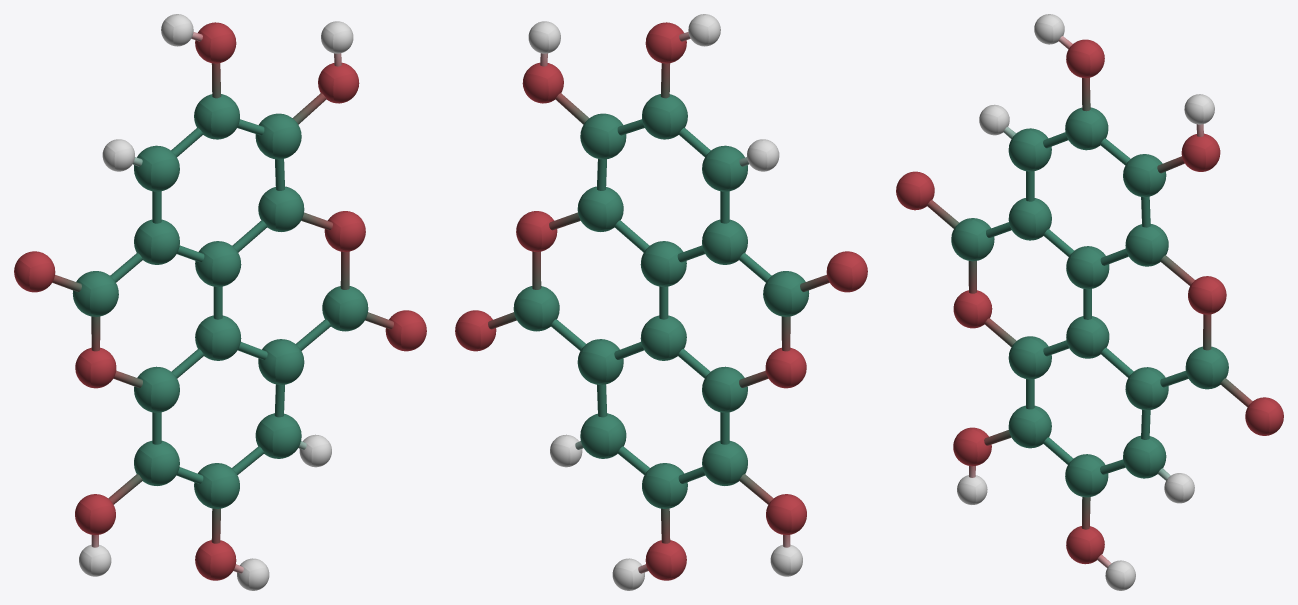
File: Ellagic Acid.fbx
The picture shows the model from 3 angles, left to right: view 1: azimuth 30°, elevation 25°; view 2: azimuth 150°, elevation 25°; view 3: azimuth 330°, elevation 25°; orthographic projection. The views are drawn at different scales.
Visible parts, largest first — view 1: curMeshHyperballExportedMesh; view 2: curMeshHyperballExportedMesh; view 3: curMeshHyperballExportedMesh.
Boxes of the visible parts, box(x1,y1,x2,y2) form: curMeshHyperballExportedMesh: box(14, 14, 426, 590); curMeshHyperballExportedMesh: box(455, 14, 867, 590); curMeshHyperballExportedMesh: box(896, 14, 1283, 590).
Size of the model in its own units: 5.77 by 8.02 by 0.5667.
